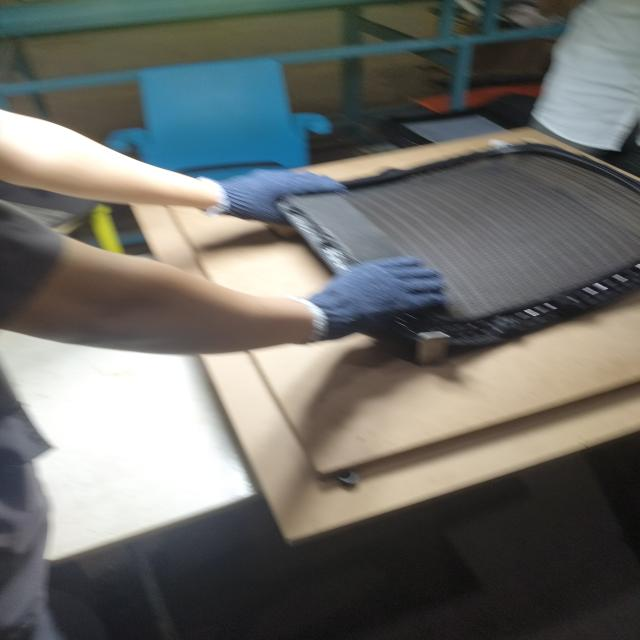Gloves-Detection: (293, 258, 450, 344), (198, 168, 348, 223)
